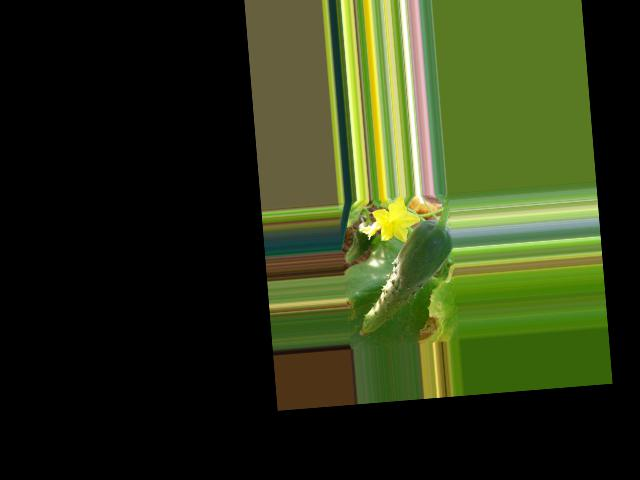cucumber: (350, 218, 459, 336)
